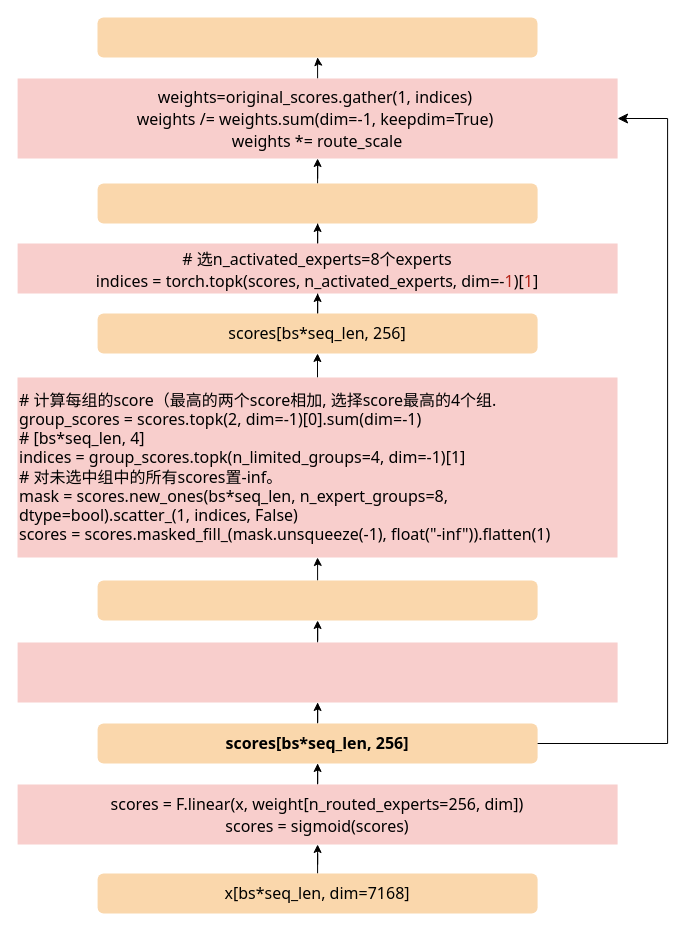
Some shapes in this 695 by 930 pixel diagram are drawn without their labels. The shapes that lost their labels are listed below. From the top down, each one's centre as x and y in pixels, then its label:
At (317,37): "weights[bs*seq_len, n_activated_experts = 8]".
At (317,203): "indices[ bs*seq_len, n_activated_experts =8 ]".
At (317,600): "scores[bs*seq_len, 8, 32]".
At (317,672): "scores = scores + bias scores.view(b*seq_len, n_expert_groups =8, -1 )".
